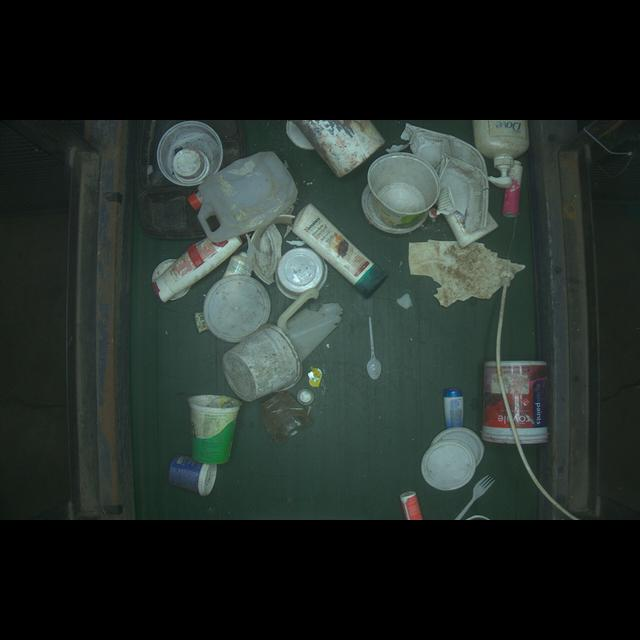mix PP: (482, 357, 551, 448), (365, 150, 438, 236), (185, 391, 246, 462), (165, 459, 220, 501), (358, 309, 385, 380)
